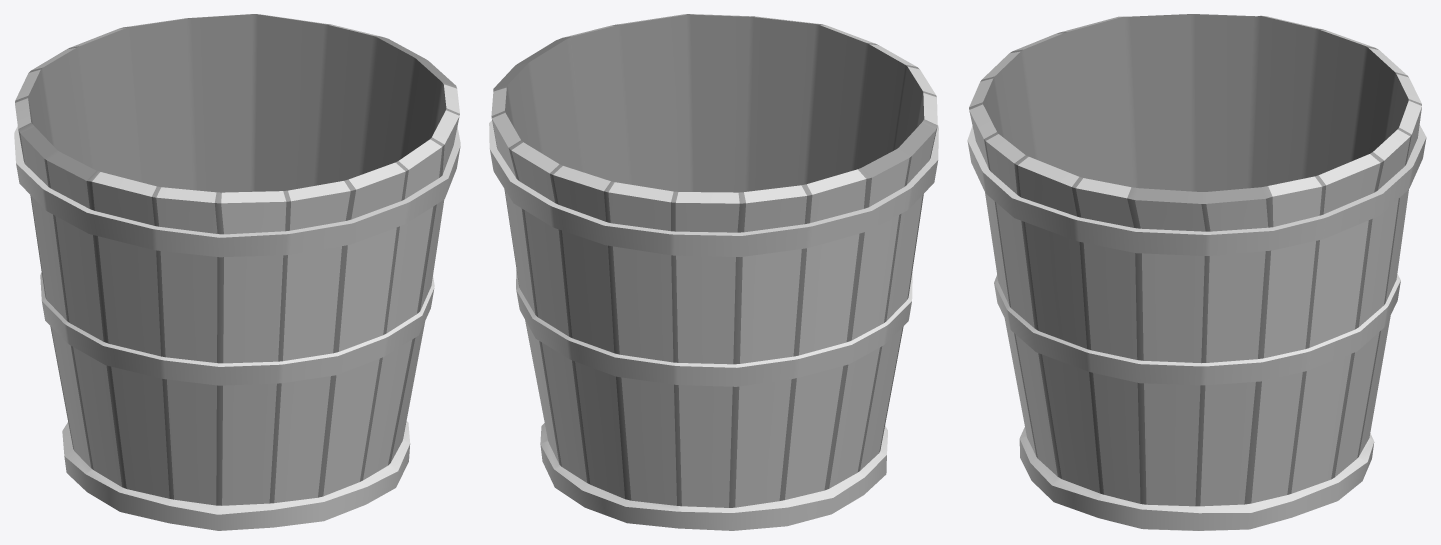
Rendered from PT_Barrel_16.fbx.
3 views of the same model, side by side, from view 1: azimuth 30°, elevation 25°; view 2: azimuth 150°, elevation 25°; view 3: azimuth 270°, elevation 25° (orthographic).
Visible parts, largest first — view 1: PT_Barrel_16; view 2: PT_Barrel_16; view 3: PT_Barrel_16.
Boxes of the visible parts, x1,y1,x2,y2 form: PT_Barrel_16: (14,14,460,530); PT_Barrel_16: (489,14,938,530); PT_Barrel_16: (967,14,1426,530).
Size of the model in its own units: 161 by 142 by 163.
1 material, 1 textured.
